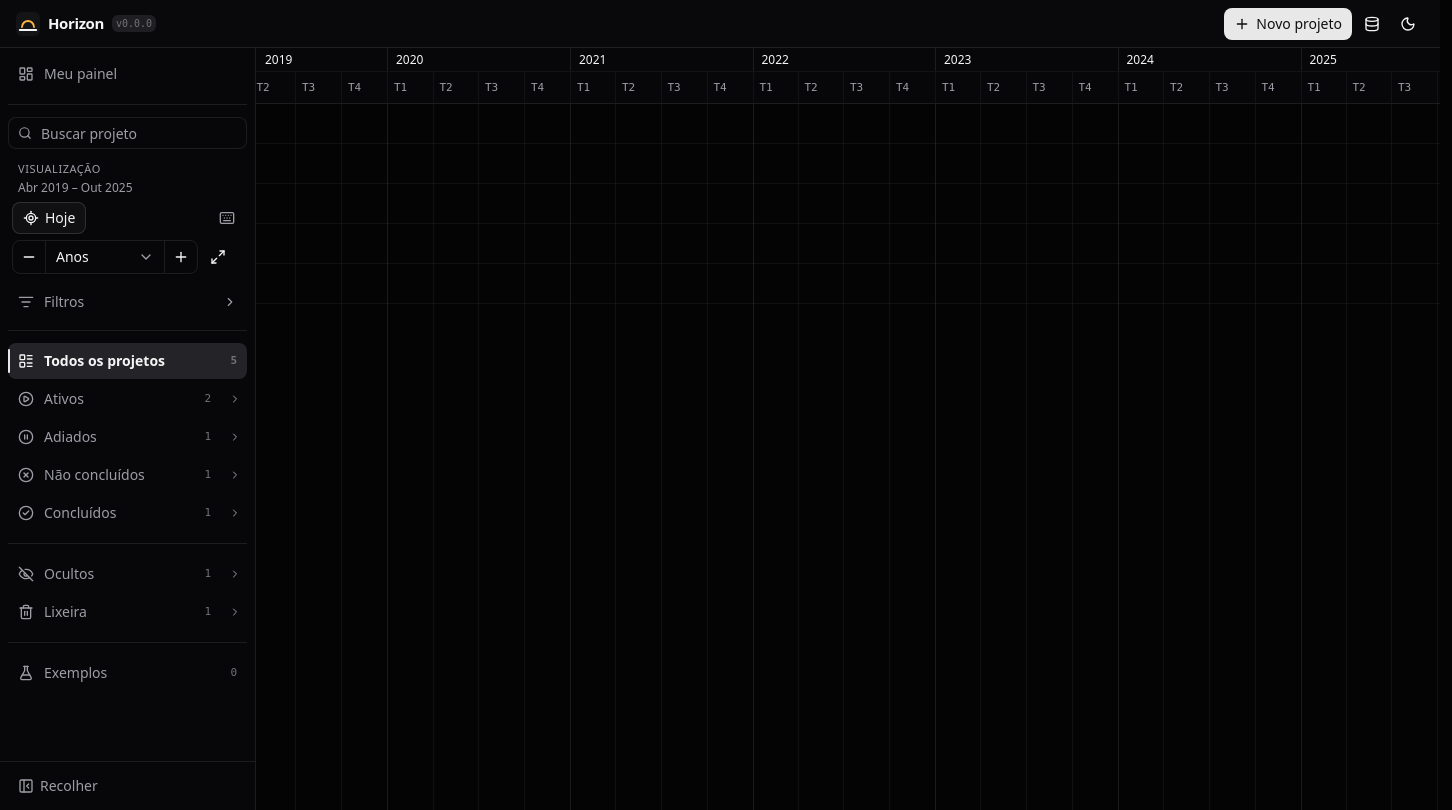
it: navigation sidebar › opens the search from the collapsed rail
Click the button with aria-label "Recolher menu".
click(128, 786)  # box [8,770,247,802]
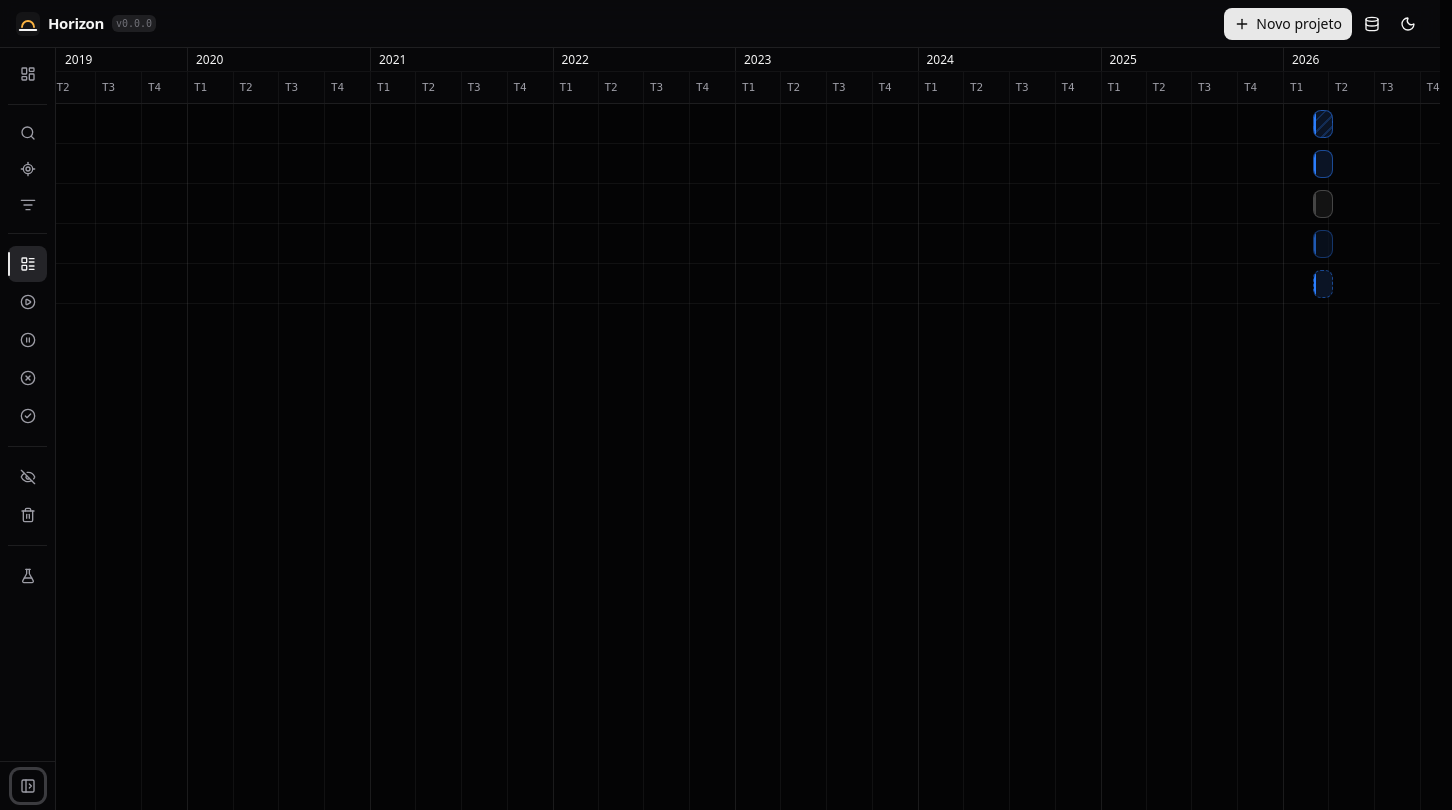
Click the button named "Buscar projeto".
click(28, 133)  # box [12,117,44,149]
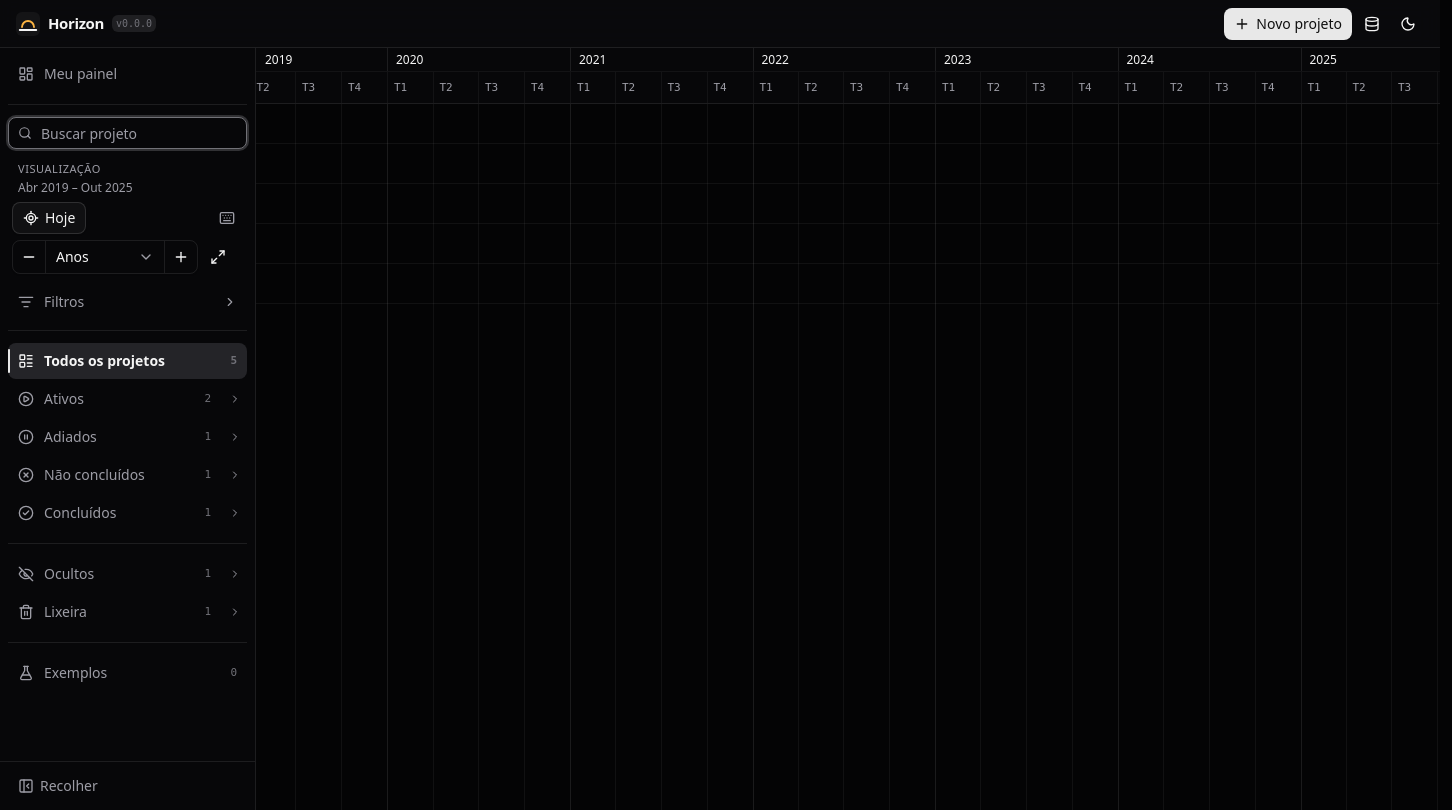
Check: the button with aria-label "Recolher menu" is shown, box [8,770,247,802]
